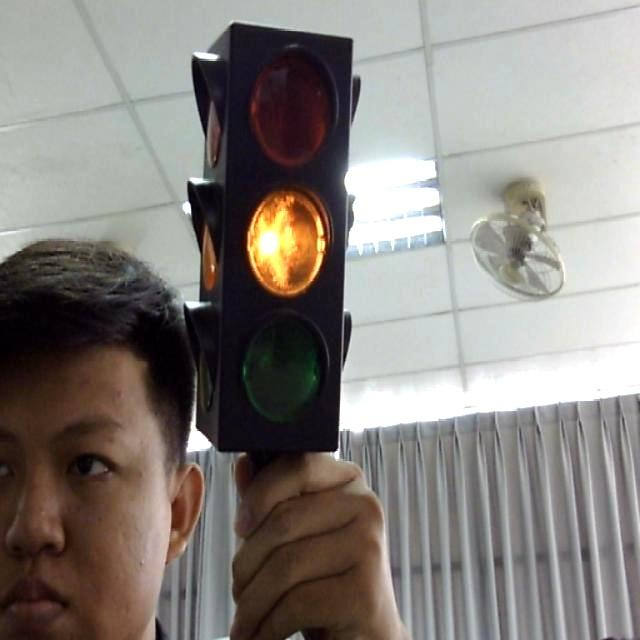Yellow: (186, 13, 368, 466)
